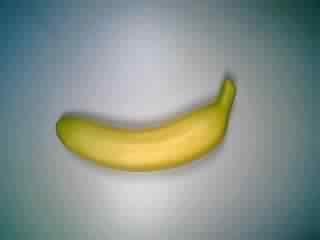banana: (54, 79, 241, 174)
